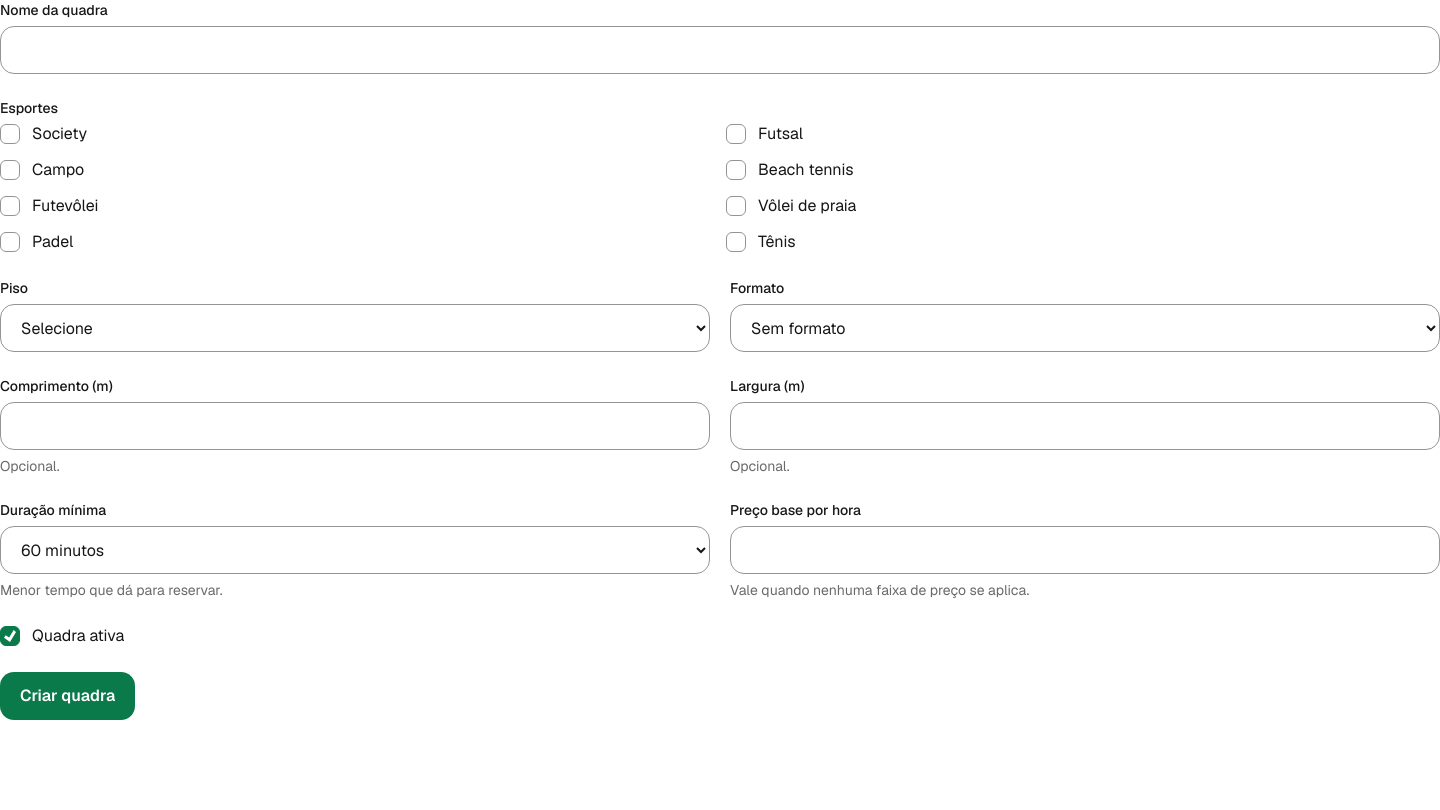
Test: FieldForm (create) › flags a measure that is not a number
Type "longa" into the field labelled "Comprimento (m)".
click(355, 426); type("longa")  # box [0,402,710,450]
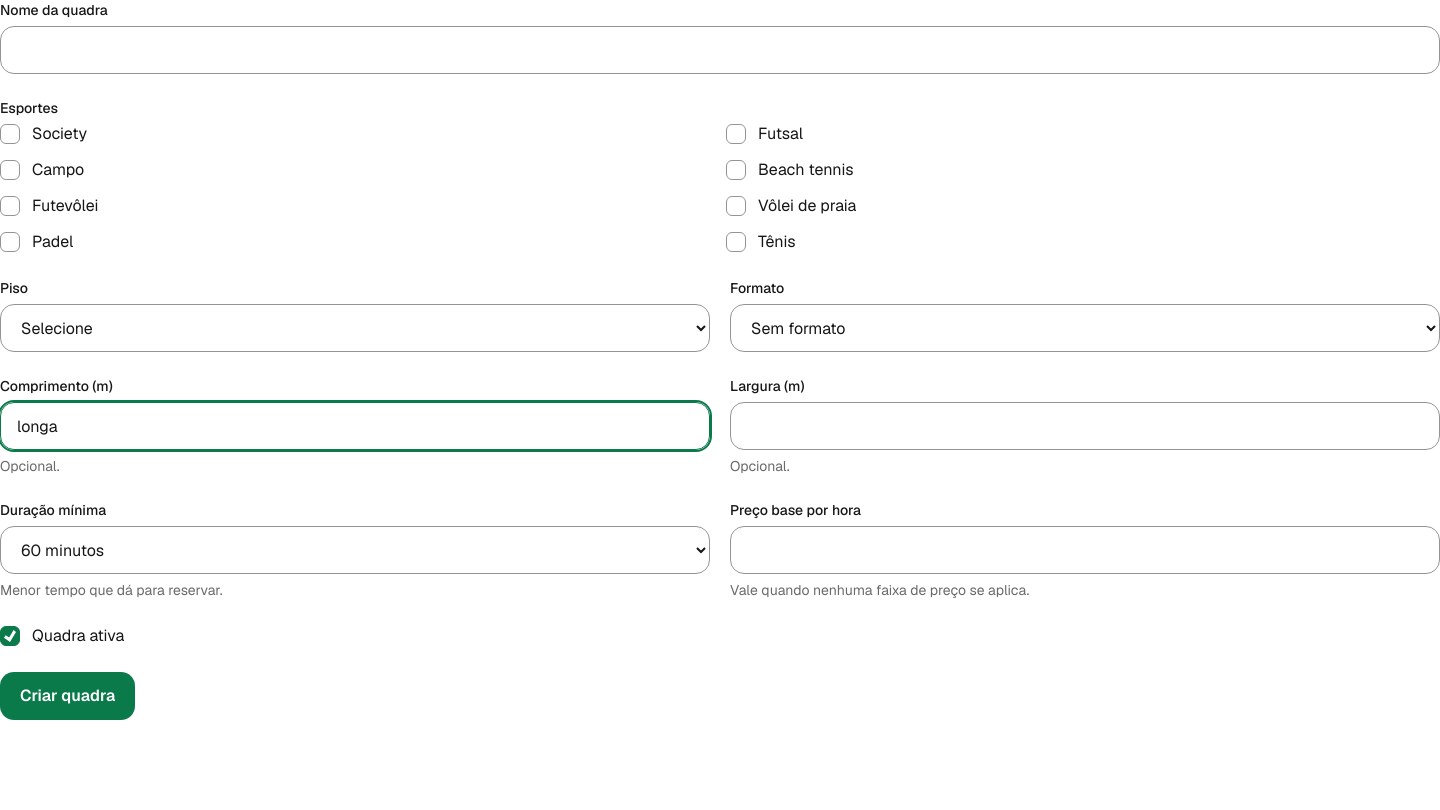
Click the button "Criar quadra".
click(68, 696)  # box [0,672,135,720]
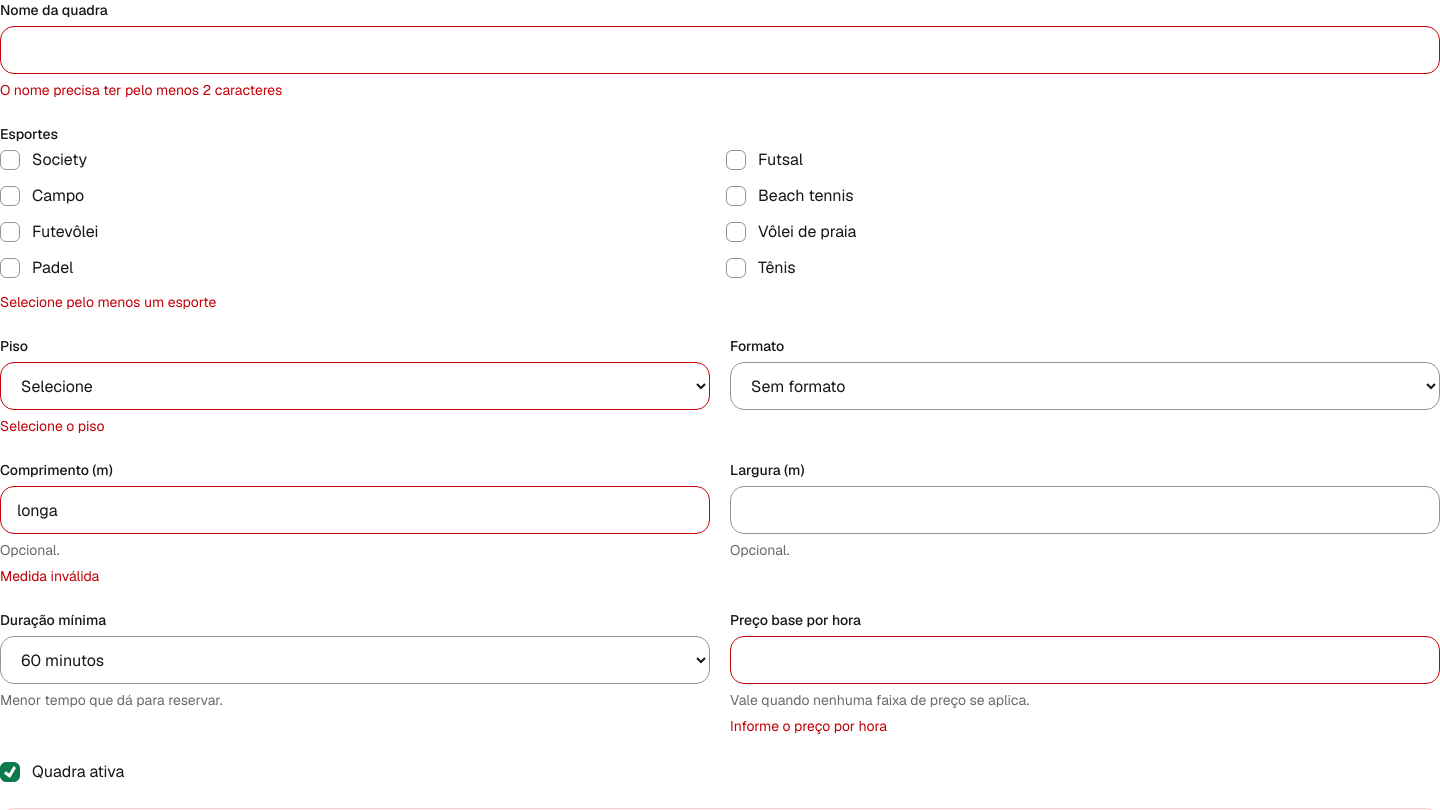
expect the text "Medida inválida" is shown: met, box [0,567,99,585]
